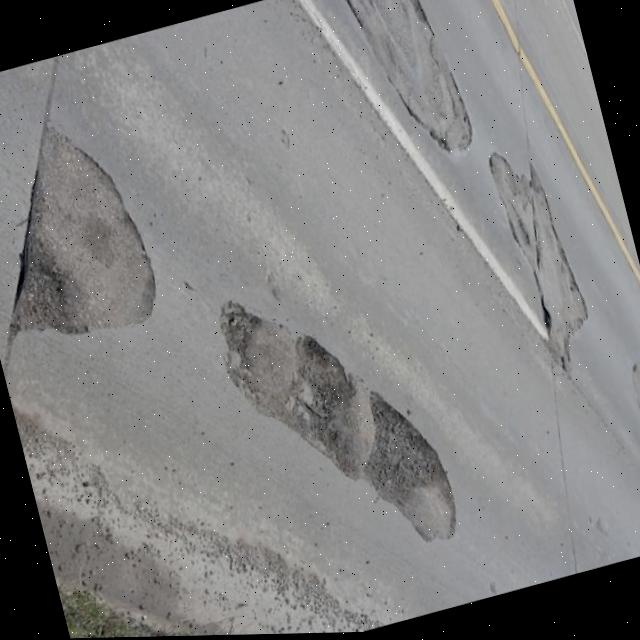Pothole: (202, 242, 454, 591), (0, 114, 196, 380), (463, 123, 610, 392), (309, 0, 504, 184), (592, 309, 640, 557), (526, 532, 624, 587)
